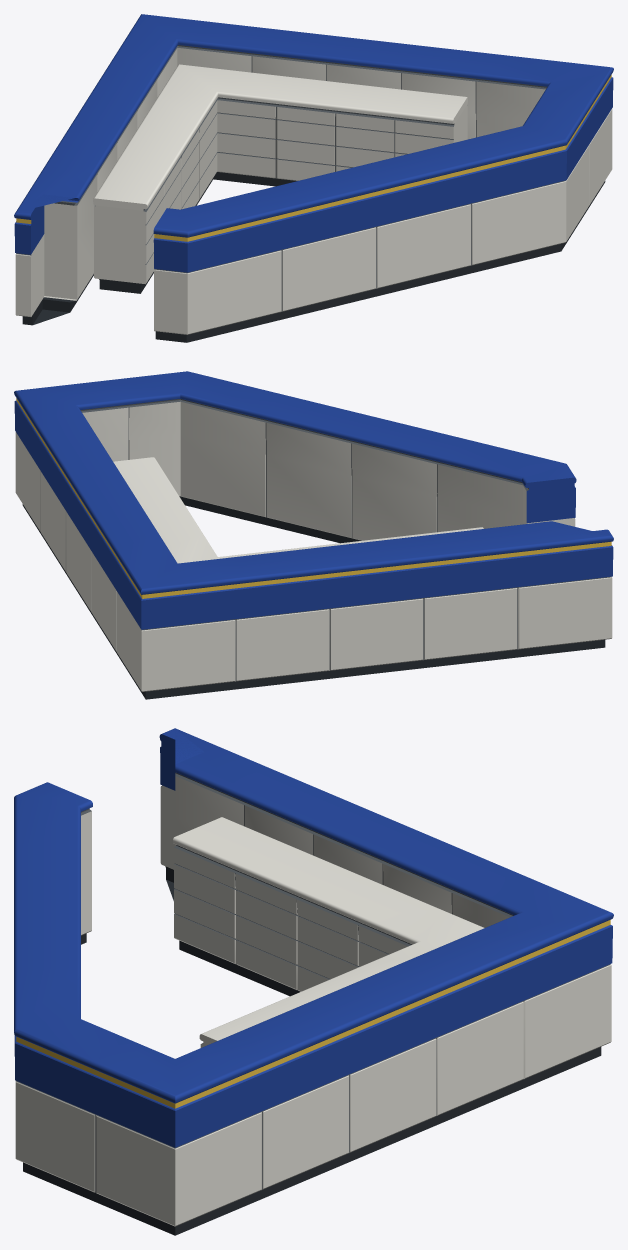
File: checkout-counter-shield-rounded-2010.glb
3 renders of one model, top to bottom at view 1: azimuth 30°, elevation 25°; view 2: azimuth 150°, elevation 25°; view 3: azimuth 270°, elevation 25°, orthographic. The views are drawn at different scales.
Parts seen in each view (by area): view 1: shield-surround-0.003, shield-work-cabinet.003; view 2: shield-surround-0.003, shield-work-cabinet.003; view 3: shield-surround-0.003, shield-work-cabinet.003.
Part boxes in pixels (x1,y1,x2,y2): shield-surround-0.003: (14,14,613,342); shield-work-cabinet.003: (93,64,467,293); shield-surround-0.003: (14,371,613,699); shield-work-cabinet.003: (113,457,483,563); shield-surround-0.003: (14,728,613,1235); shield-work-cabinet.003: (173,817,484,1047).
Size of the model in its own units: 19.6 by 3.54 by 13.4.
